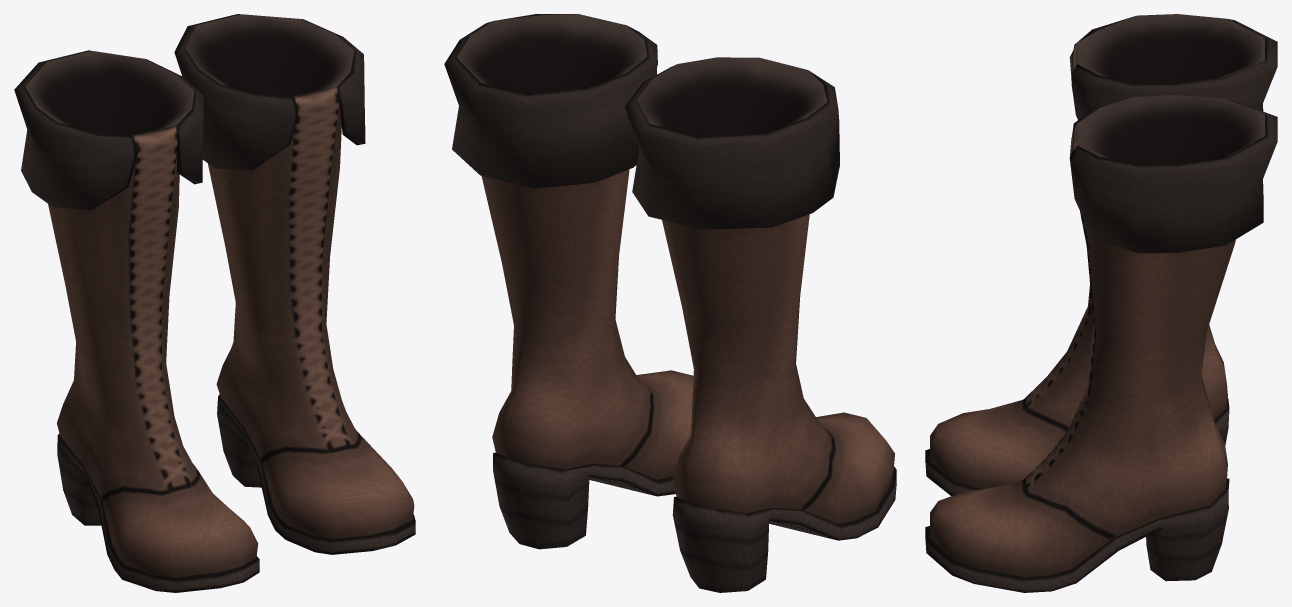
The model's file is basic_boots.glb.
3 renders of one model, left to right at view 1: azimuth 30°, elevation 25°; view 2: azimuth 150°, elevation 25°; view 3: azimuth 270°, elevation 25°, orthographic. The views are drawn at different scales.
Parts seen in each view (by area): view 1: Cube; view 2: Cube; view 3: Cube.
Boxes of the visible parts, left/top/right/bottom form: Cube: left=14, top=14, right=415, bottom=592; Cube: left=444, top=14, right=896, bottom=592; Cube: left=925, top=14, right=1277, bottom=592.
Size of the model in its own units: 1.11 by 1.43 by 1.04.
Materials: 2 (2 with a texture image).
